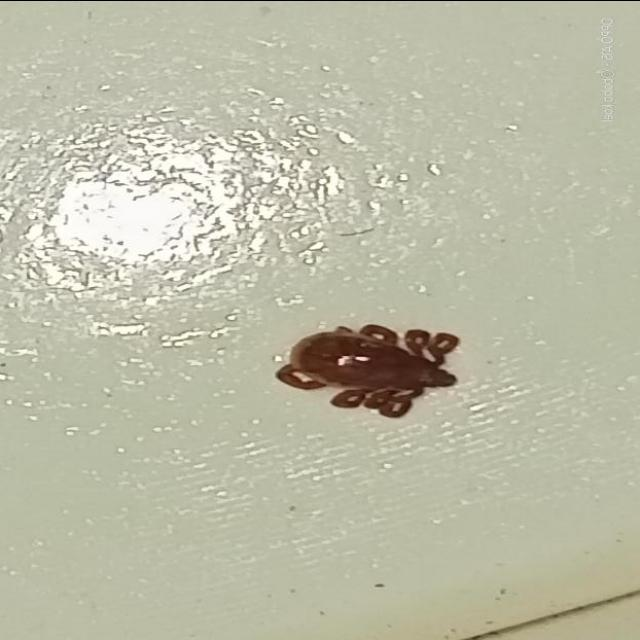Rhipicephalus Sanguineus-M: (276, 322, 462, 420)
